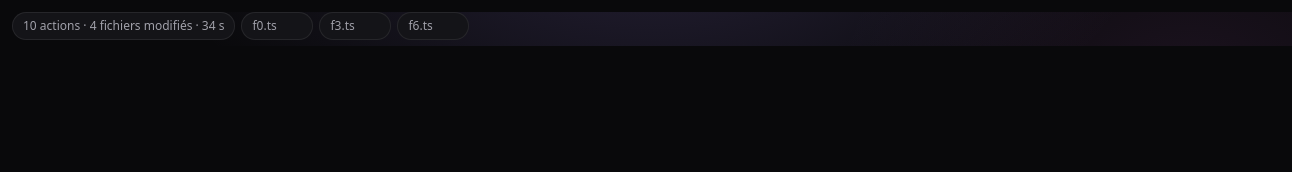
ActivityGroup › après le run : une ligne résumé repliée + diffs à un clic
Check: the button with test id "activity-summary" reads "10 actions · 4 fichiers modifiés · 34 s", box [12,12,236,40]
Click the button titled "Voir le diff de src/f0.ts" at (278, 26), box [242,12,314,40]
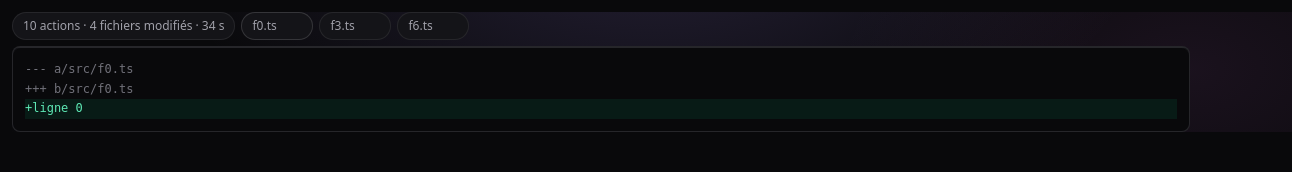
Check: the text "ligne 0" is shown, box [25,101,83,115]
